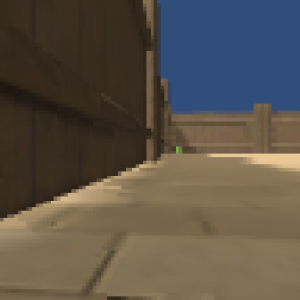goodGoal: (174, 145, 183, 156)
